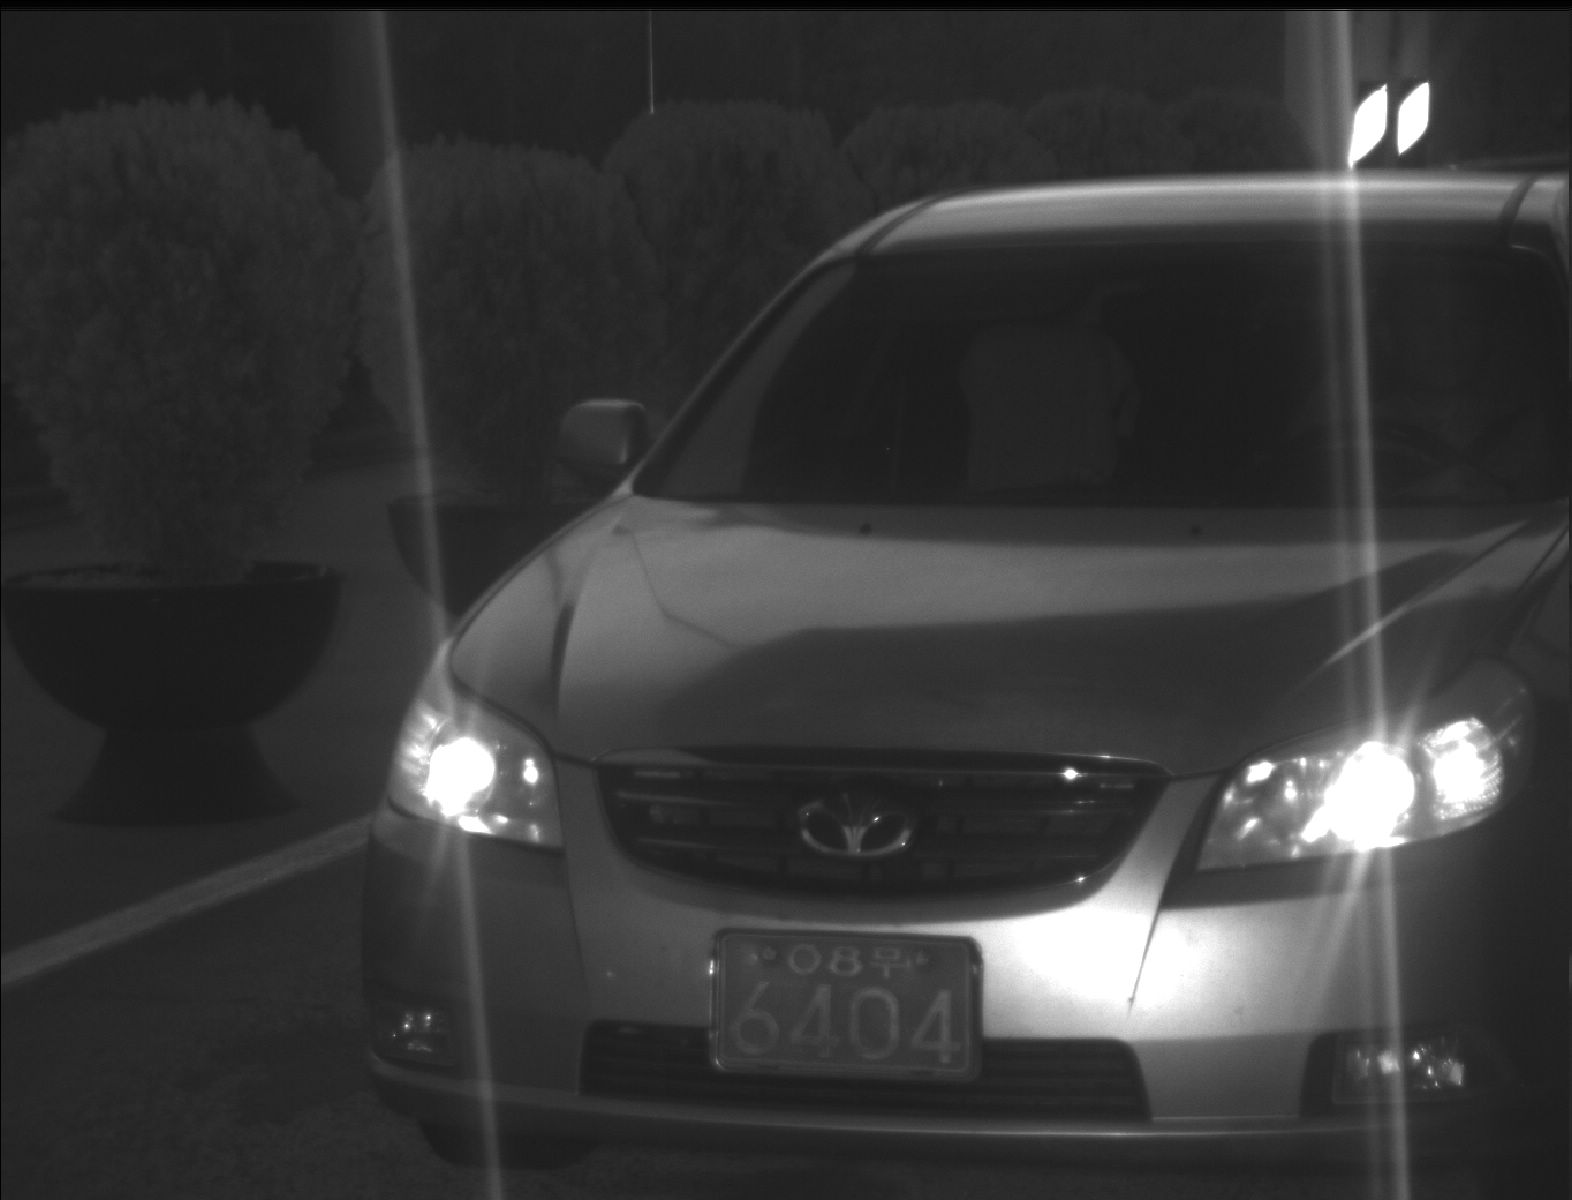car: (355, 162, 1572, 1200)
plate: (704, 923, 989, 1082)
